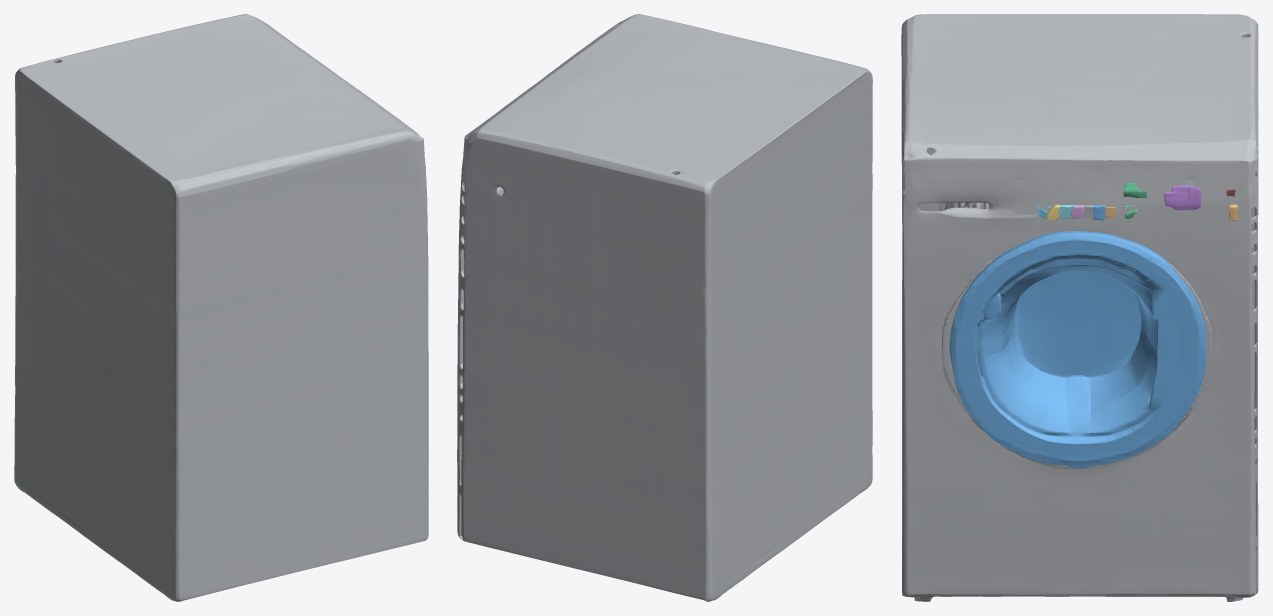
Rendered from parts.glb.
3 renders of one model, left to right at view 1: azimuth 30°, elevation 25°; view 2: azimuth 150°, elevation 25°; view 3: azimuth 270°, elevation 25°, orthographic. The views are drawn at different scales.
Parts seen in each view (by area): view 1: visual_0_0; view 2: visual_0_0; view 3: visual_0_0, visual_1_0, visual_4_0.
Part boxes in pixels (box(x1,y1,x2,y2)): visual_0_0: box(14, 14, 428, 601); visual_0_0: box(457, 14, 872, 601); visual_0_0: box(901, 14, 1258, 601); visual_1_0: box(949, 231, 1206, 468); visual_4_0: box(1164, 185, 1201, 210).
Bounding box in the file's own units: 0.6552 × 1 × 0.7093.
